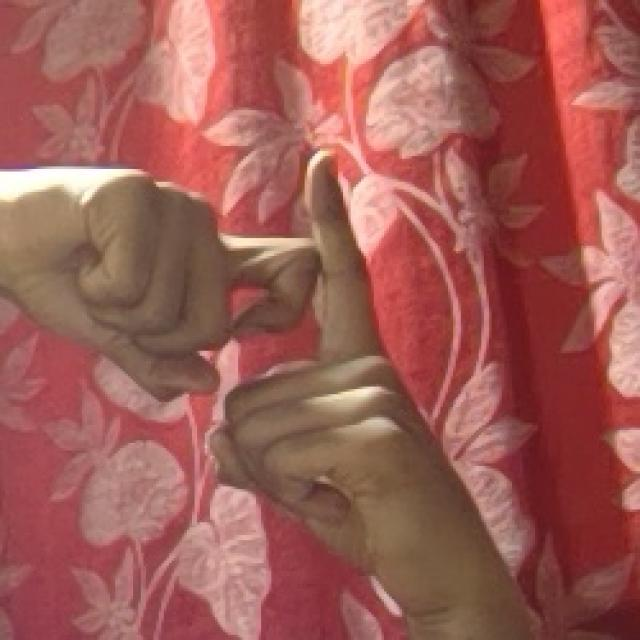Alphabet-K: (21, 146, 516, 640)
